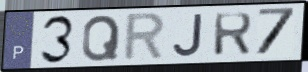3: (36, 14, 78, 66)
7: (256, 6, 298, 59)
J: (171, 12, 205, 59)
Q: (79, 13, 122, 63)
R: (121, 11, 169, 63), (212, 10, 254, 57)
